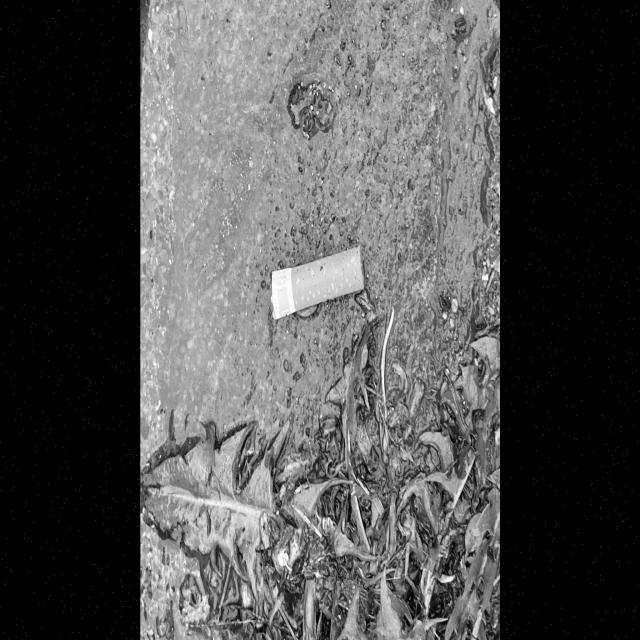other waste: (270, 244, 364, 322)
